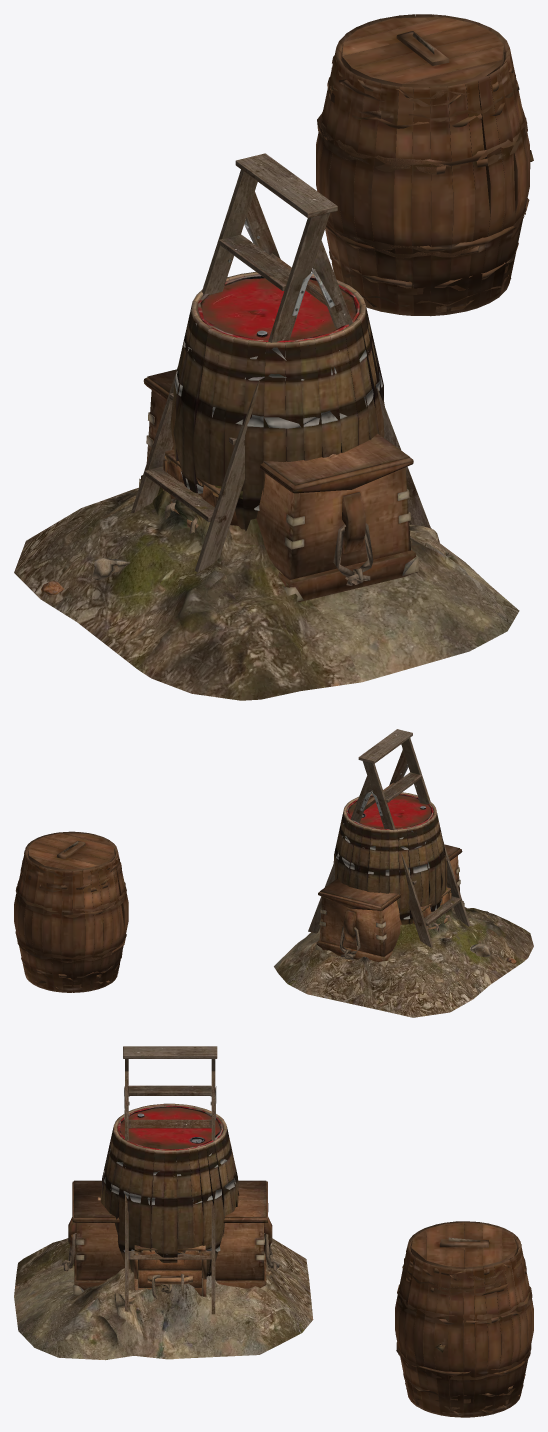
File: village-props-v4-lite.glb
3 views of the same model, one above another, from view 1: azimuth 30°, elevation 25°; view 2: azimuth 150°, elevation 25°; view 3: azimuth 270°, elevation 25° (orthographic). The views are drawn at different scales.
Visible parts, largest first — view 1: tree_stump_01, wooden_barrels_01_barrel01, wine_barrel_01, wooden_crate_02_crate, wooden_ladder_steps, Barrel_01, wooden_crate_02_lid, wooden_ladder_supports, wooden_crate_01; view 2: wooden_barrels_01_barrel01, tree_stump_01, wine_barrel_01, wooden_ladder_steps, wooden_crate_02_crate, Barrel_01, wooden_crate_02_lid, wooden_ladder_supports; view 3: wooden_barrels_01_barrel01, tree_stump_01, wine_barrel_01, wooden_crate_02_crate, wooden_ladder_supports, Barrel_01, wooden_crate_02_lid, wooden_crate_01, wooden_ladder_steps.
Boxes of the visible parts, bbox=[...] form: tree_stump_01: bbox=[14, 485, 519, 700]; wooden_barrels_01_barrel01: bbox=[316, 14, 533, 316]; wine_barrel_01: bbox=[170, 271, 384, 531]; wooden_crate_02_crate: bbox=[139, 390, 418, 602]; wooden_ladder_steps: bbox=[131, 153, 337, 572]; Barrel_01: bbox=[197, 274, 359, 342]; wooden_crate_02_lid: bbox=[143, 369, 413, 493]; wooden_ladder_supports: bbox=[244, 191, 430, 528]; wooden_crate_01: bbox=[163, 459, 238, 533]; wooden_barrels_01_barrel01: bbox=[14, 831, 128, 992]; tree_stump_01: bbox=[274, 887, 533, 1017]; wine_barrel_01: bbox=[333, 792, 447, 924]; wooden_ladder_steps: bbox=[358, 729, 470, 947]; wooden_crate_02_crate: bbox=[315, 855, 464, 966]; Barrel_01: bbox=[346, 793, 433, 829]; wooden_crate_02_lid: bbox=[318, 844, 462, 910]; wooden_ladder_supports: bbox=[308, 749, 408, 933]; wooden_barrels_01_barrel01: bbox=[395, 1221, 533, 1417]; tree_stump_01: bbox=[14, 1238, 313, 1360]; wine_barrel_01: bbox=[100, 1103, 239, 1277]; wooden_crate_02_crate: bbox=[60, 1217, 279, 1295]; wooden_ladder_supports: bbox=[124, 1071, 216, 1314]; Barrel_01: bbox=[117, 1105, 222, 1150]; wooden_crate_02_lid: bbox=[72, 1180, 268, 1222]; wooden_crate_01: bbox=[134, 1250, 206, 1299]; wooden_ladder_steps: bbox=[123, 1046, 217, 1108].
Size of the model in its own units: 2.79 by 1.55 by 2.76.
13 materials, 13 textured.
